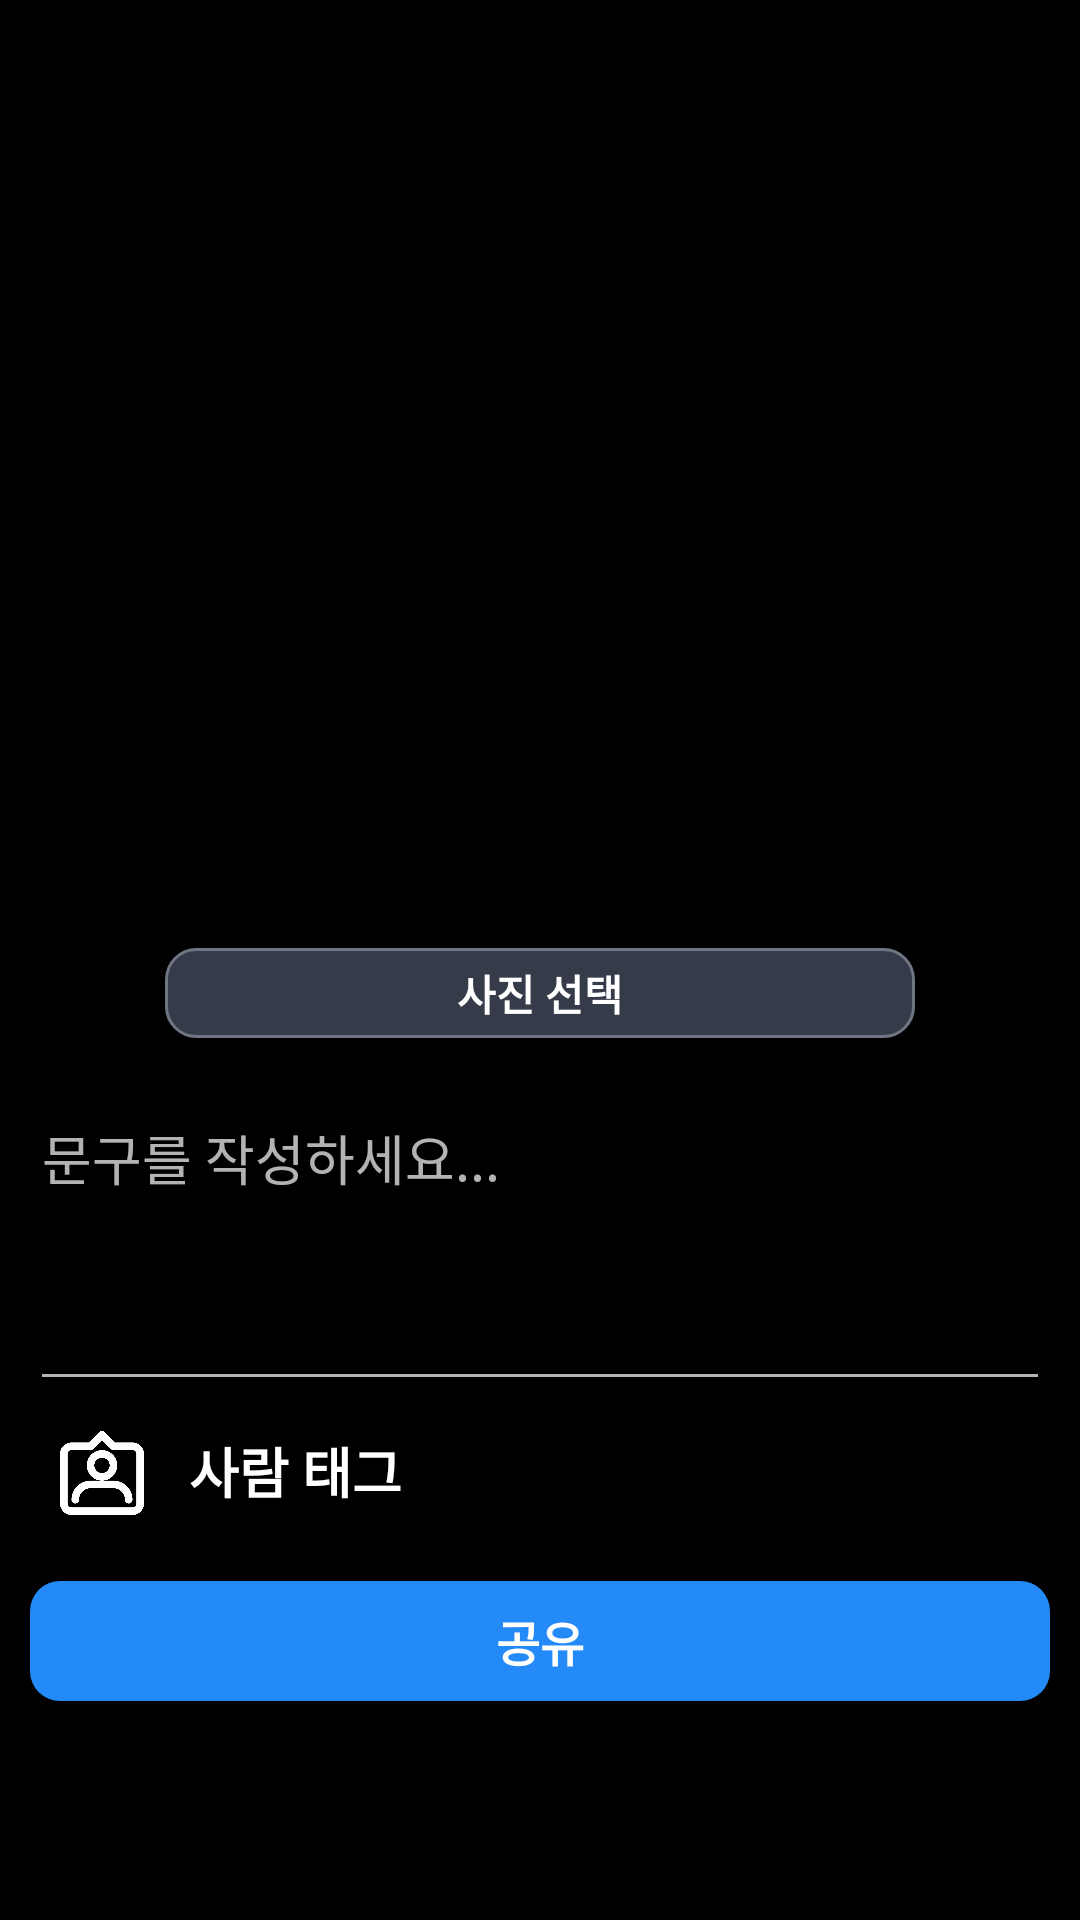

Locate icon controls on the screen. Image size 1080w x 1920h, boxes as [x1=x1, y1=y1, x2=x2, y2=y2].
tag: [x1=60, y1=1431, x2=144, y2=1515]
